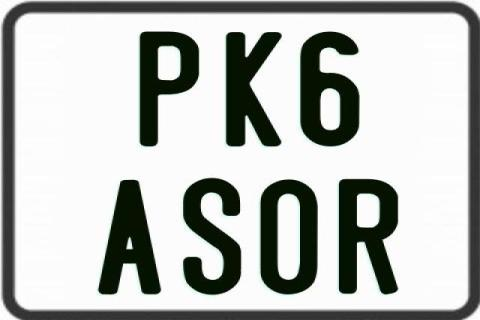0: (258, 180, 318, 300), (298, 31, 357, 147)
A: (98, 178, 164, 294)
K: (223, 31, 279, 146)
P: (140, 31, 201, 147)
R: (338, 180, 401, 298)
S: (182, 177, 243, 293)
